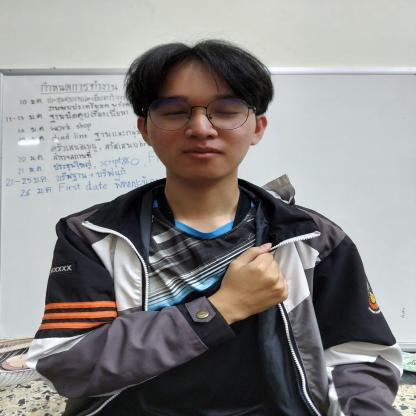Sad: (190, 235, 302, 330)
